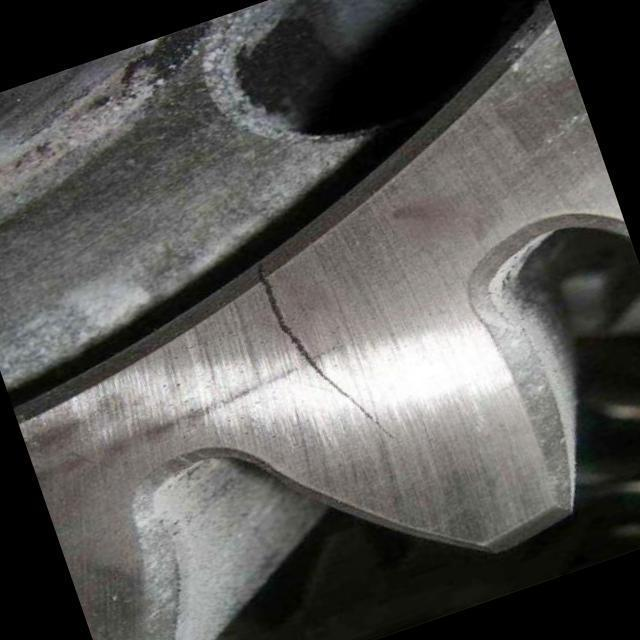defect: (250, 254, 400, 442)
